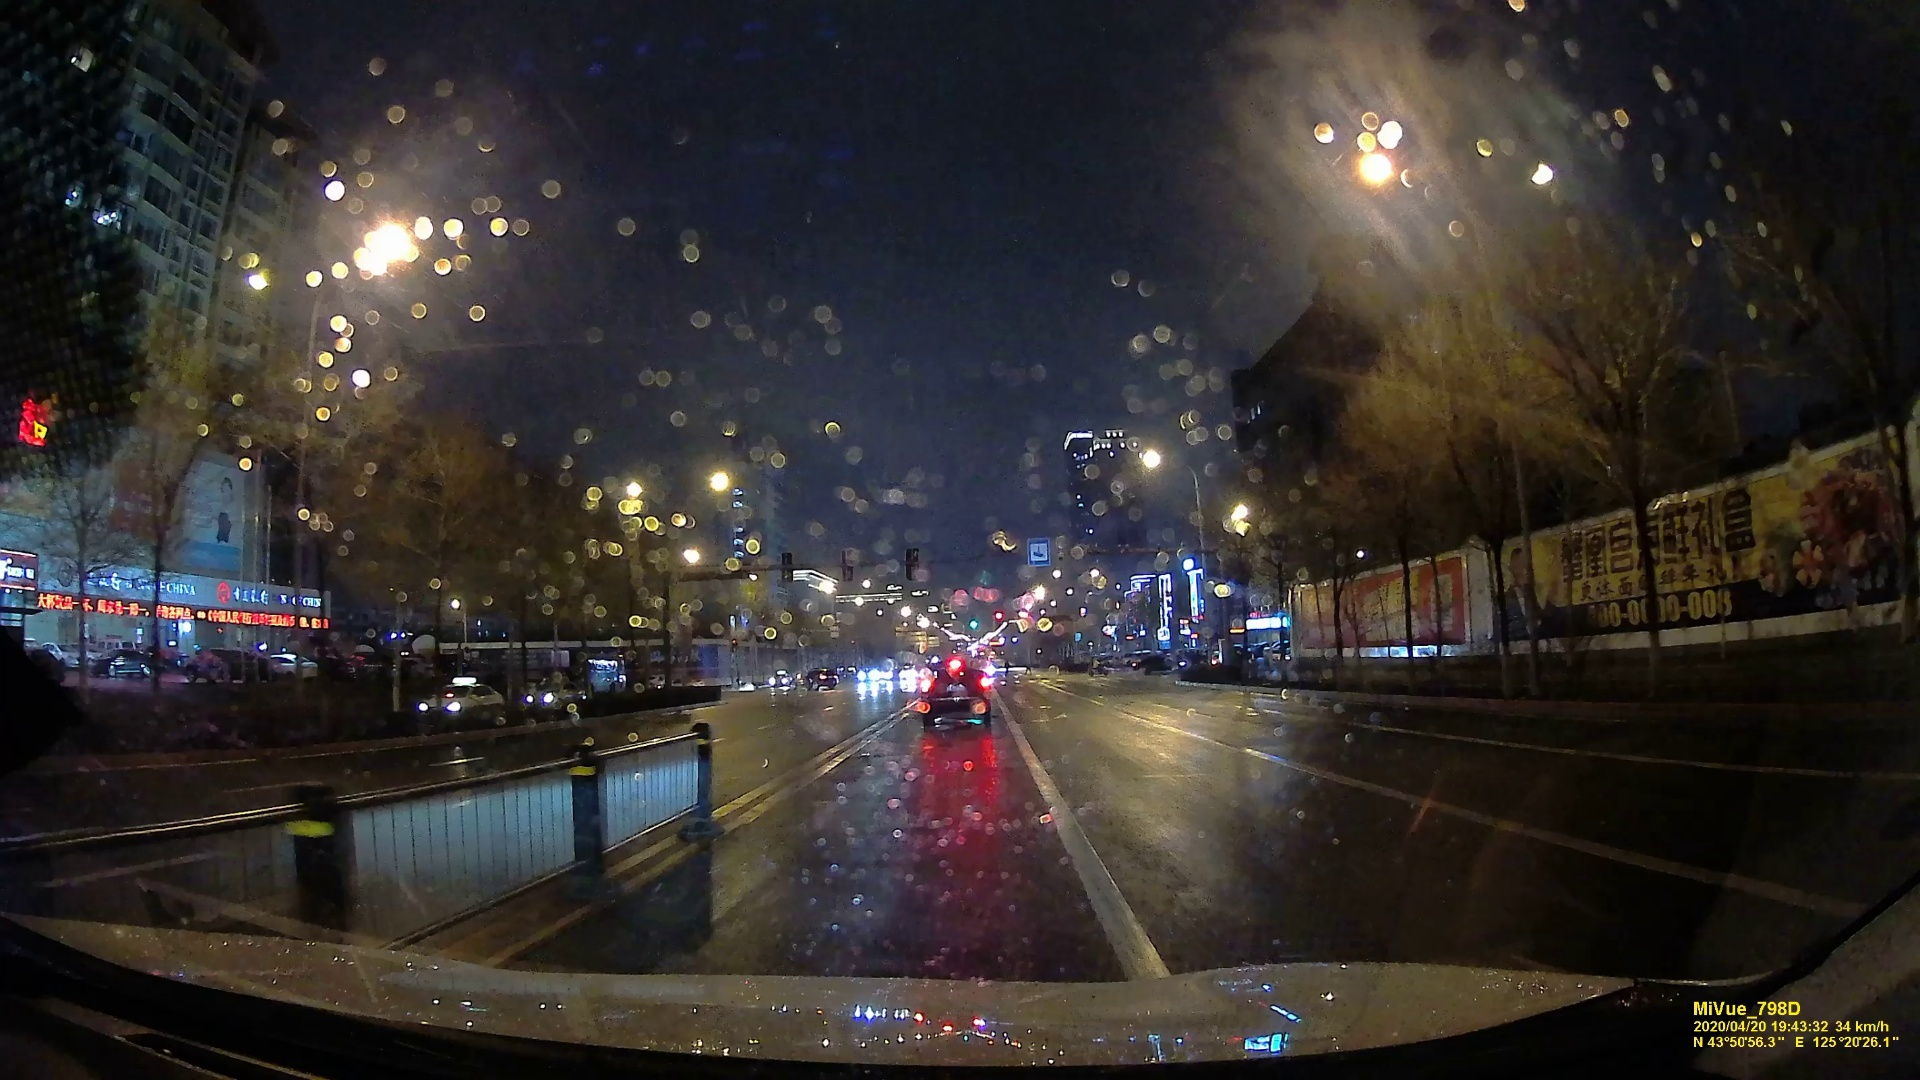traffic_sign: (1027, 538, 1048, 568)
vehicle: (919, 669, 992, 735), (418, 682, 506, 724)
